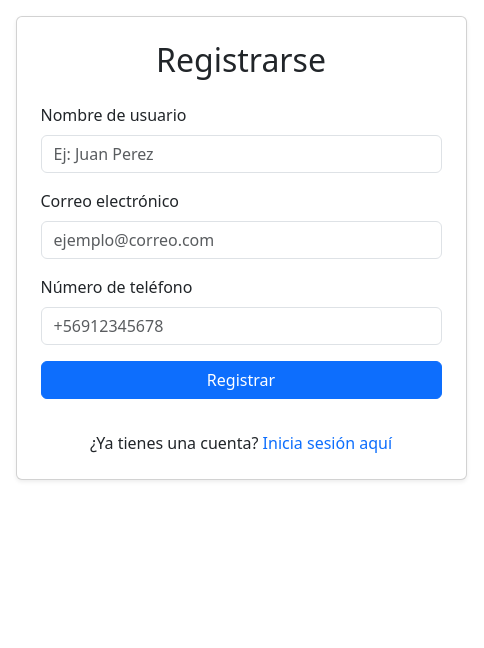
RegisterForm › muestra los tres errores y el aviso si se envía vacío
Click the button "Registrar" at (241,380), box [40, 361, 442, 399]
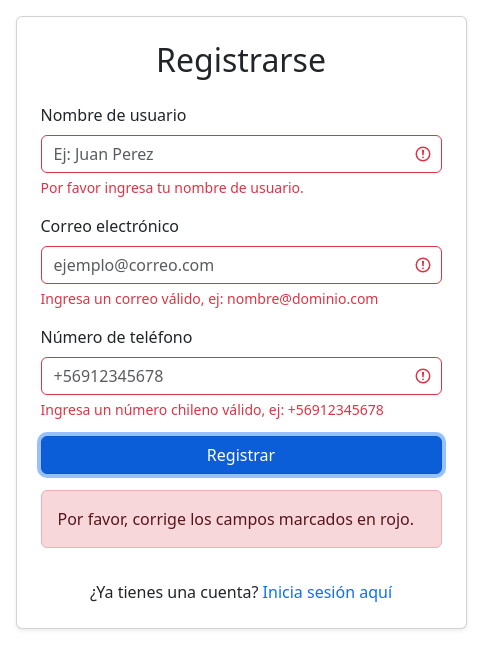
Expected: the text "Por favor ingresa tu nombre de usuario." is shown, [40, 178, 304, 197]
Expected: the text "Ingresa un correo válido, ej: nombre@dominio.com" is shown, [40, 289, 378, 308]
Expected: the text "Ingresa un número chileno válido, ej: +56912345678" is shown, [40, 399, 442, 420]
